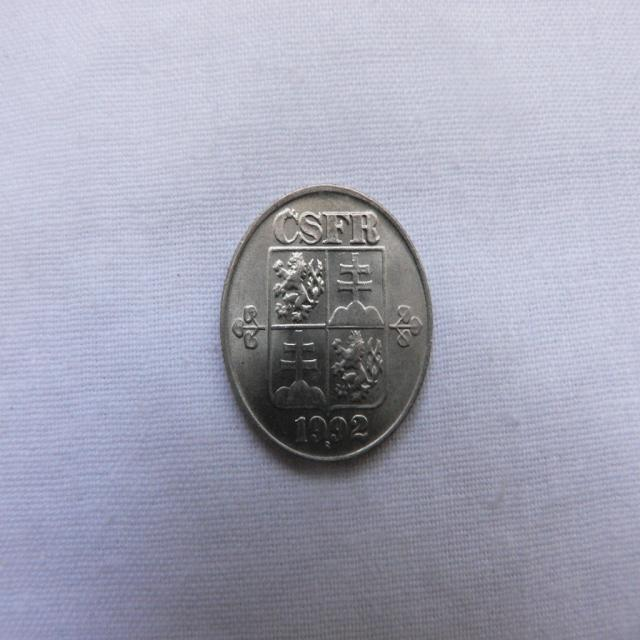Coin: (220, 181, 435, 462)
